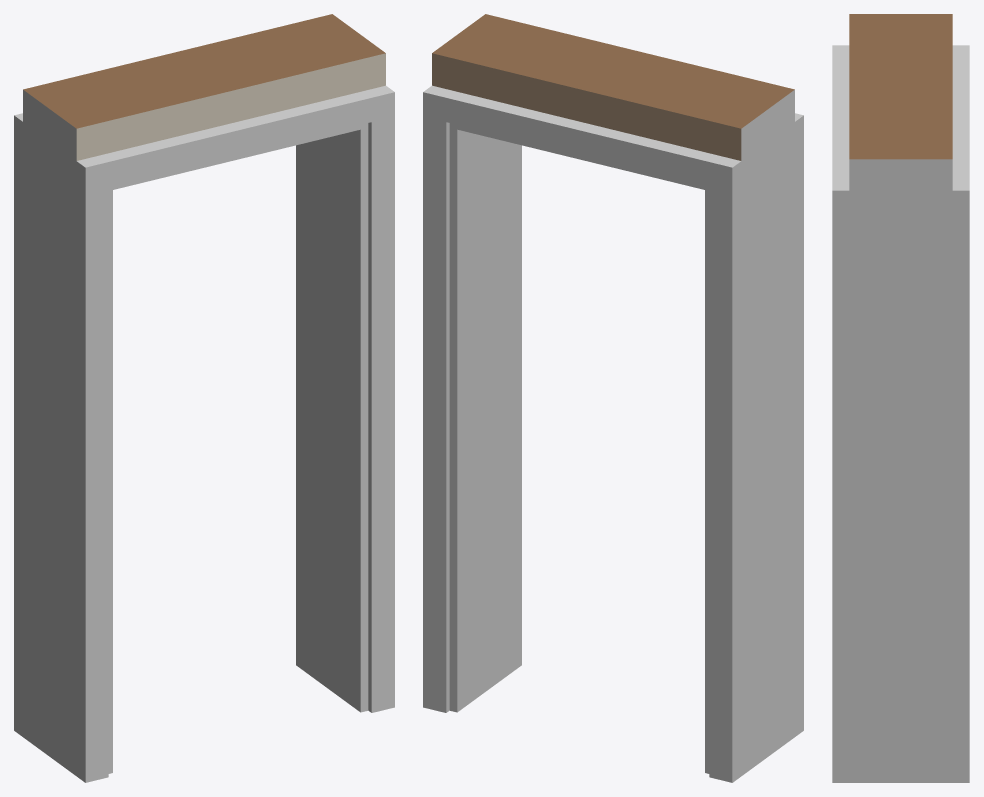
The model's file is Exterior_Doorway.obj.
3 views of the same model, side by side, from view 1: azimuth 30°, elevation 25°; view 2: azimuth 150°, elevation 25°; view 3: azimuth 270°, elevation 25° (orthographic). The views are drawn at different scales.
Visible parts, largest first — view 1: object1; view 2: object1; view 3: object1.
Part boxes in pixels (x1,y1,x2,y2): object1: (14,14,394,782); object1: (423,14,803,782); object1: (832,14,969,782).
Size of the model in its own units: 1 by 2 by 0.4.
